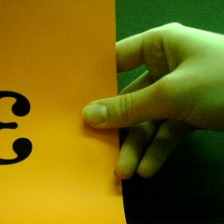orange3: (1, 88, 43, 170)
